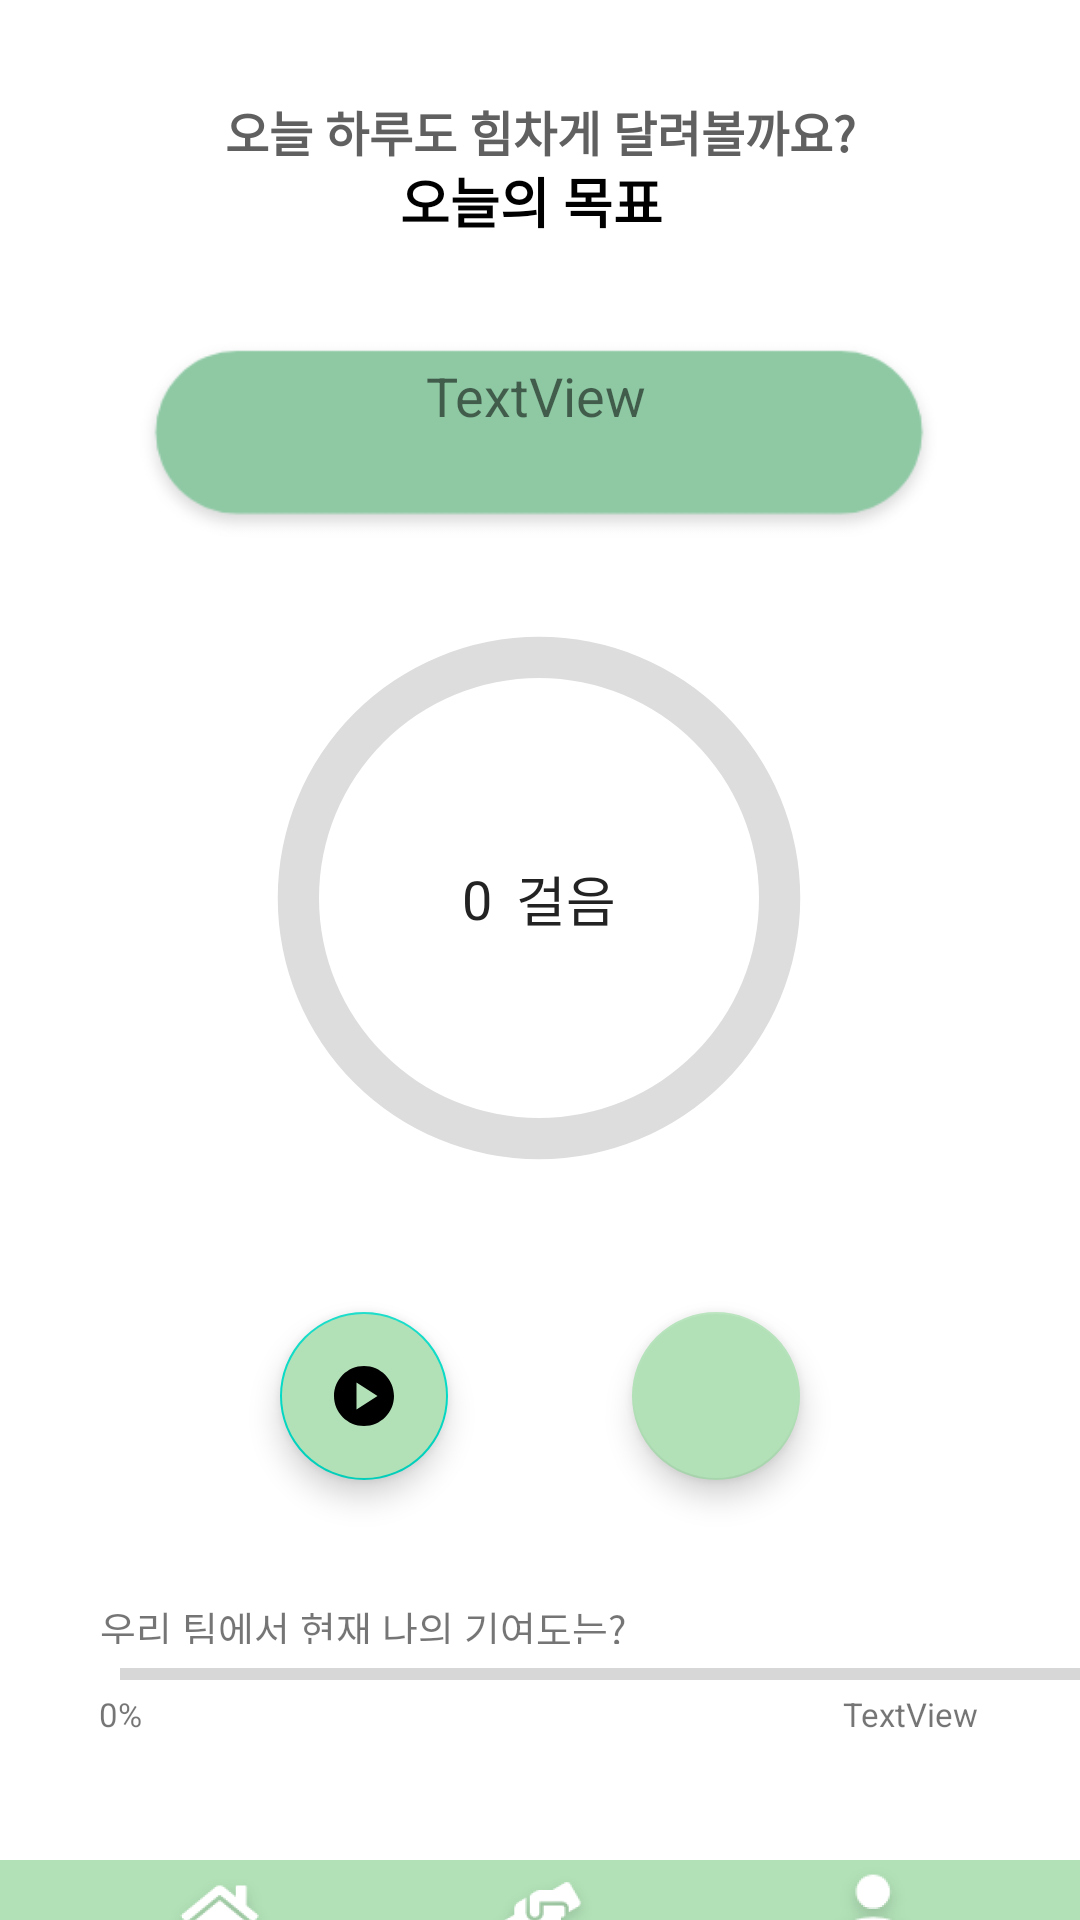

Screen size 1080w x 1920h. Icon name, then its box in pixels as [x1,y1,x2,y2]:
play circle: [280,1312,448,1480]
